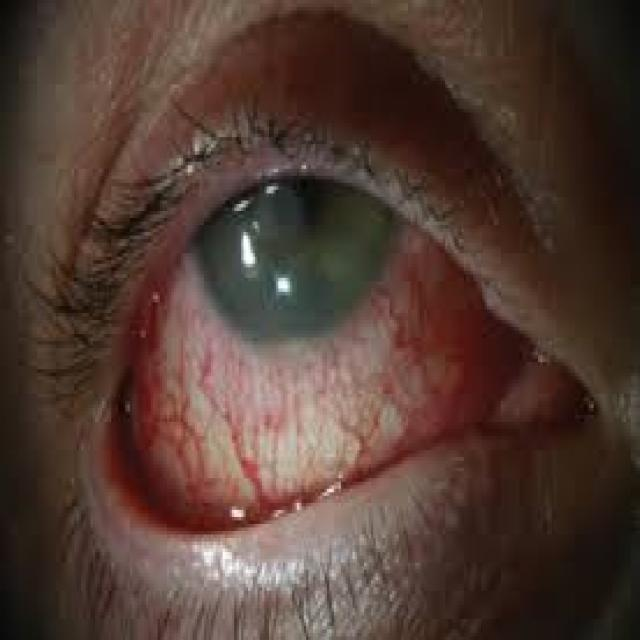Rosacea: (102, 244, 534, 534)
